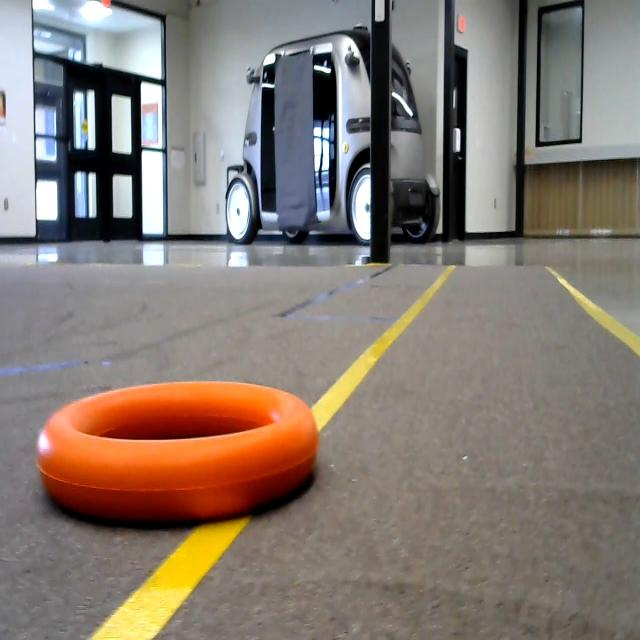note: (28, 366, 334, 537)
